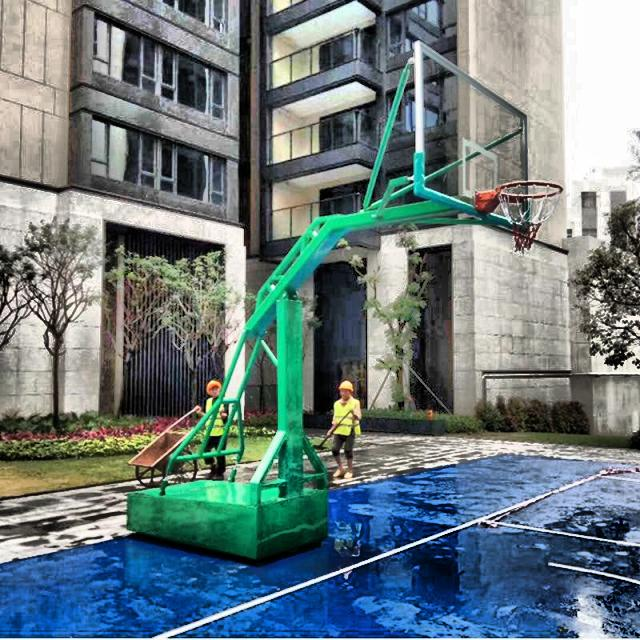rim: (496, 181, 562, 252)
